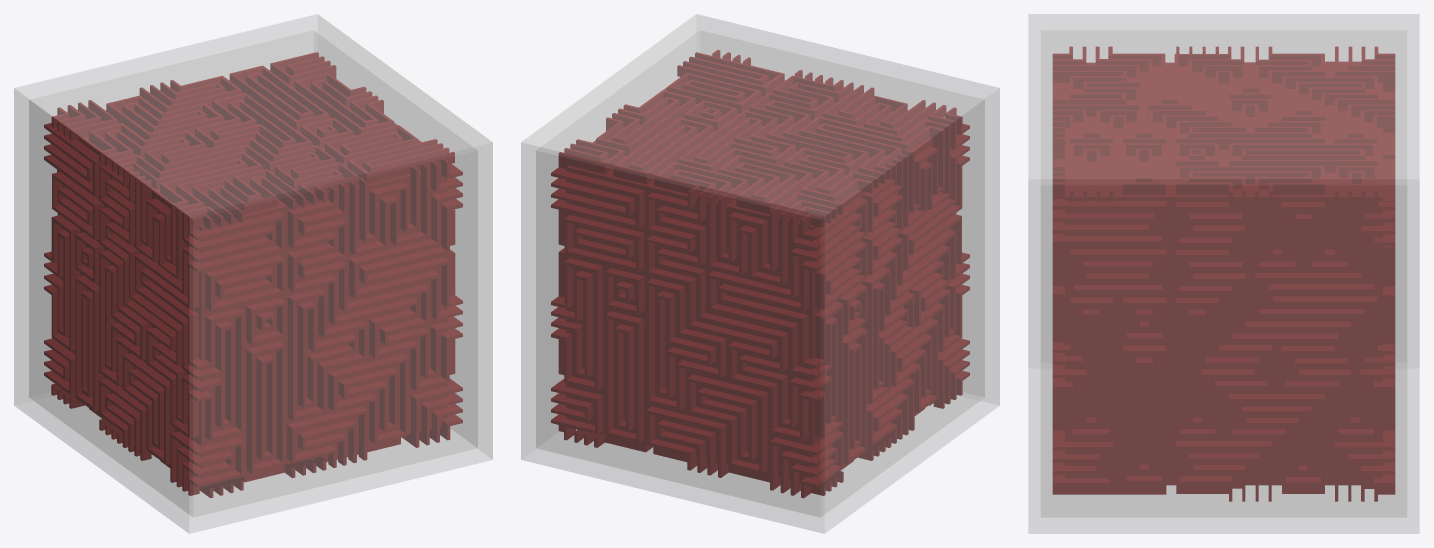
Rendered from Maze.fbx.
The picture shows the model from 3 angles, left to right: view 1: azimuth 30°, elevation 25°; view 2: azimuth 150°, elevation 25°; view 3: azimuth 270°, elevation 25°; orthographic projection. The views are drawn at different scales.
Visible parts, largest first — view 1: Maze; view 2: Maze; view 3: Maze.
Part boxes in pixels (x1,y1,x2,y2): Maze: (14, 14, 492, 533); Maze: (521, 14, 999, 533); Maze: (1028, 14, 1419, 533).
Size of the model in its own units: 16 by 16 by 16.
